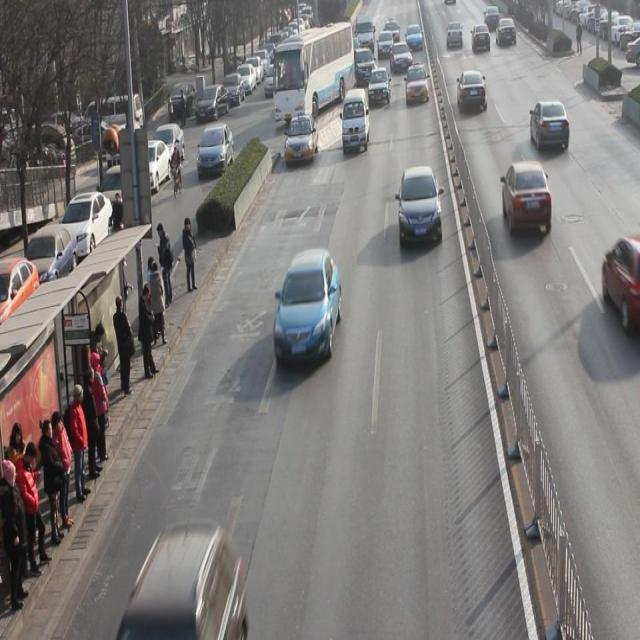car: (118, 521, 248, 640), (275, 245, 341, 369), (502, 162, 552, 235), (399, 165, 444, 245), (531, 99, 570, 153), (285, 115, 320, 167), (457, 70, 488, 114), (352, 47, 378, 87), (406, 65, 430, 106), (368, 66, 391, 108), (391, 41, 413, 76), (495, 15, 517, 48), (472, 22, 491, 54), (446, 21, 464, 49)
truck: (343, 87, 370, 155)
van: (273, 26, 356, 125)
